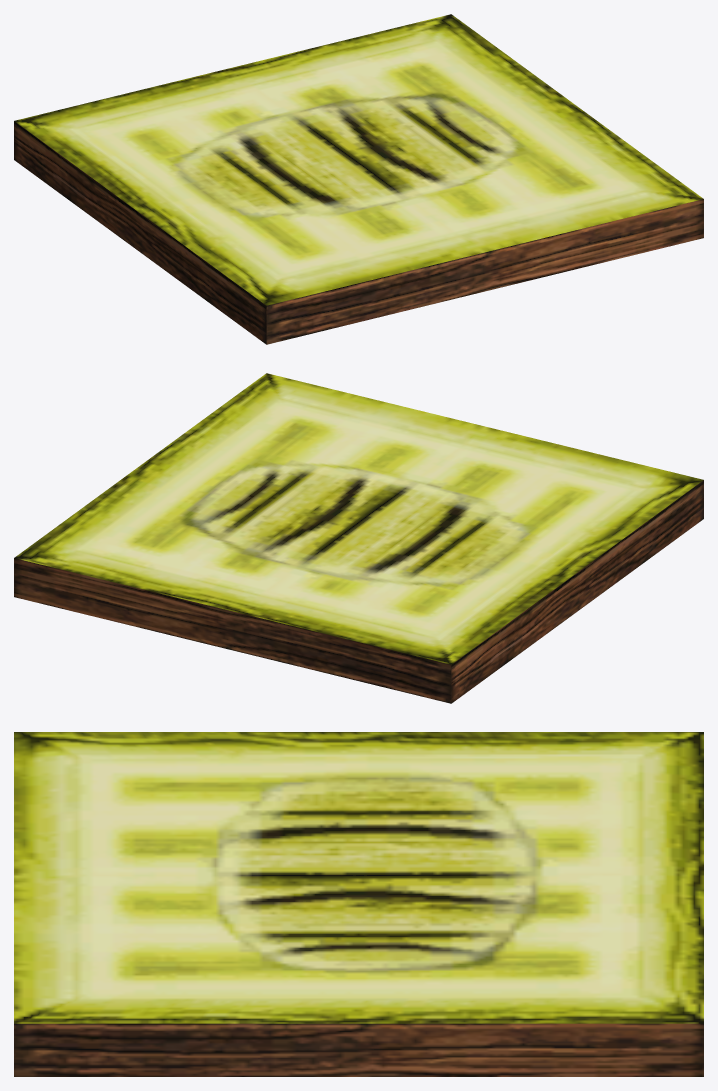
The model's file is INST_LT_PPLATEHVY_ON.fbx.
The picture shows the model from 3 angles, top to bottom: view 1: azimuth 30°, elevation 25°; view 2: azimuth 150°, elevation 25°; view 3: azimuth 270°, elevation 25°; orthographic projection. The views are drawn at different scales.
Parts seen in each view (by area): view 1: INST_LT_PPLATEHVY_ON; view 2: INST_LT_PPLATEHVY_ON; view 3: INST_LT_PPLATEHVY_ON.
Boxes of the visible parts, x1,y1,x2,y2 form: INST_LT_PPLATEHVY_ON: [14, 14, 703, 344]; INST_LT_PPLATEHVY_ON: [14, 373, 703, 703]; INST_LT_PPLATEHVY_ON: [14, 732, 703, 1076].
Bounding box in the file's own units: 20000 × 1705 × 20000.
Materials: 2 (2 with a texture image).
